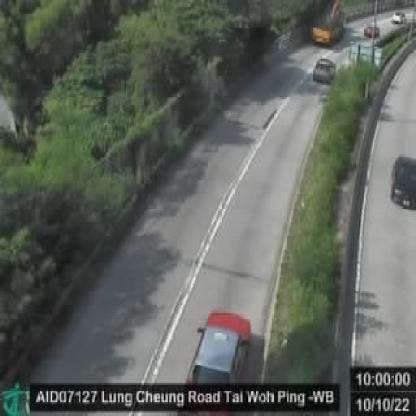Car: (174, 307, 252, 414), (392, 155, 416, 208), (312, 57, 337, 83)
Truck: (312, 0, 346, 46)
